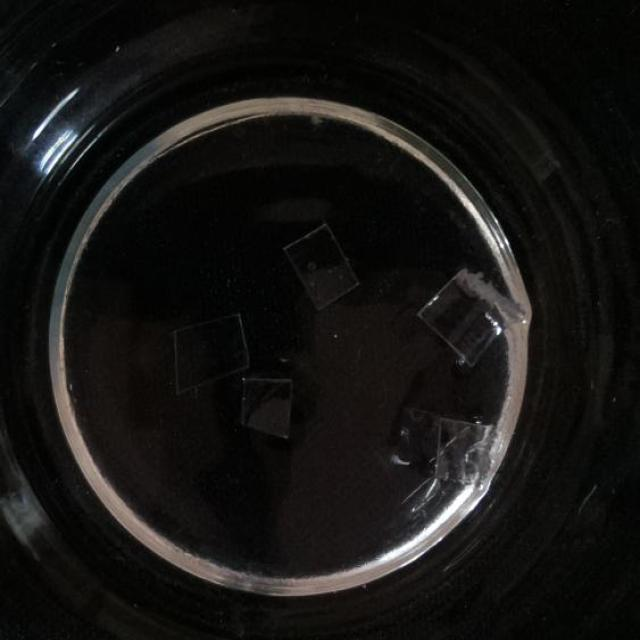fiber: (414, 272, 526, 365), (172, 305, 248, 397), (290, 220, 357, 310), (435, 419, 499, 490), (234, 376, 290, 435)
